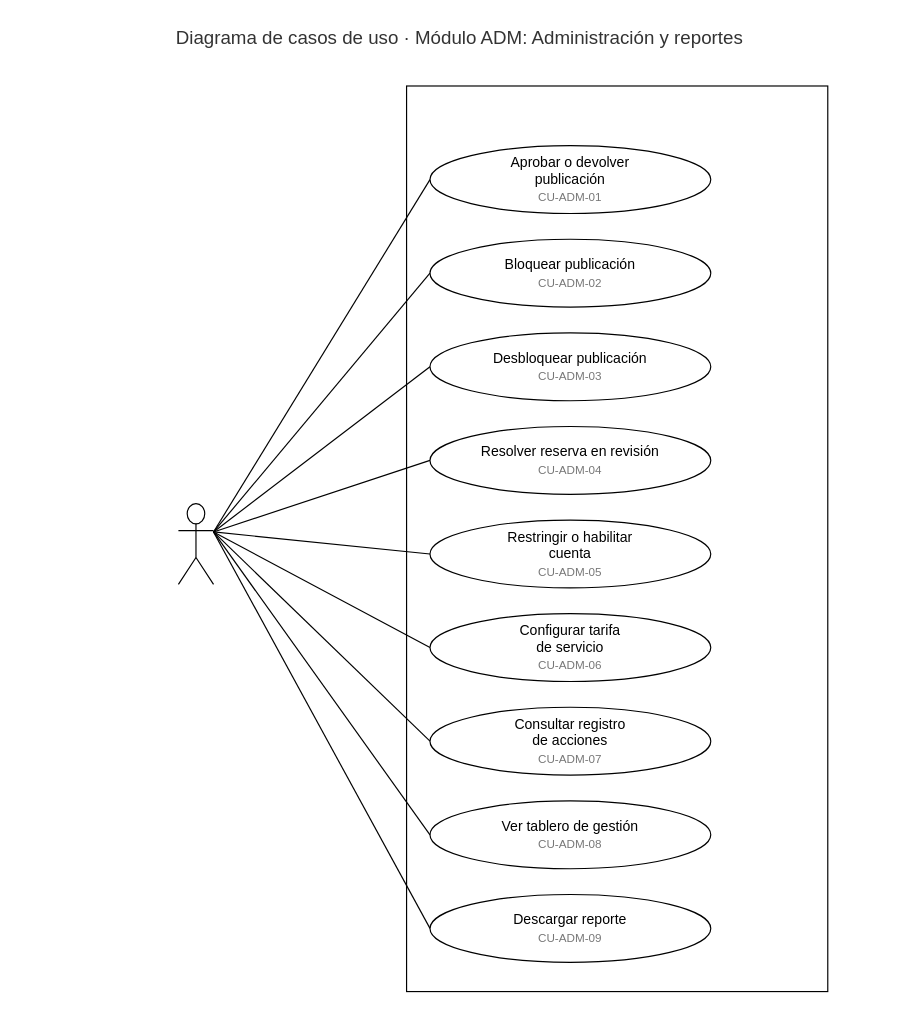
This 917x1012 diagram has some shape labels left out. The box of each missing label's shape, as (x1, y1, x2, y2) in pixels:
Administrador: (177, 503, 214, 584)
Marketplace de Alojamientos Módulo ADM: Administración y reportes: (405, 85, 828, 992)
